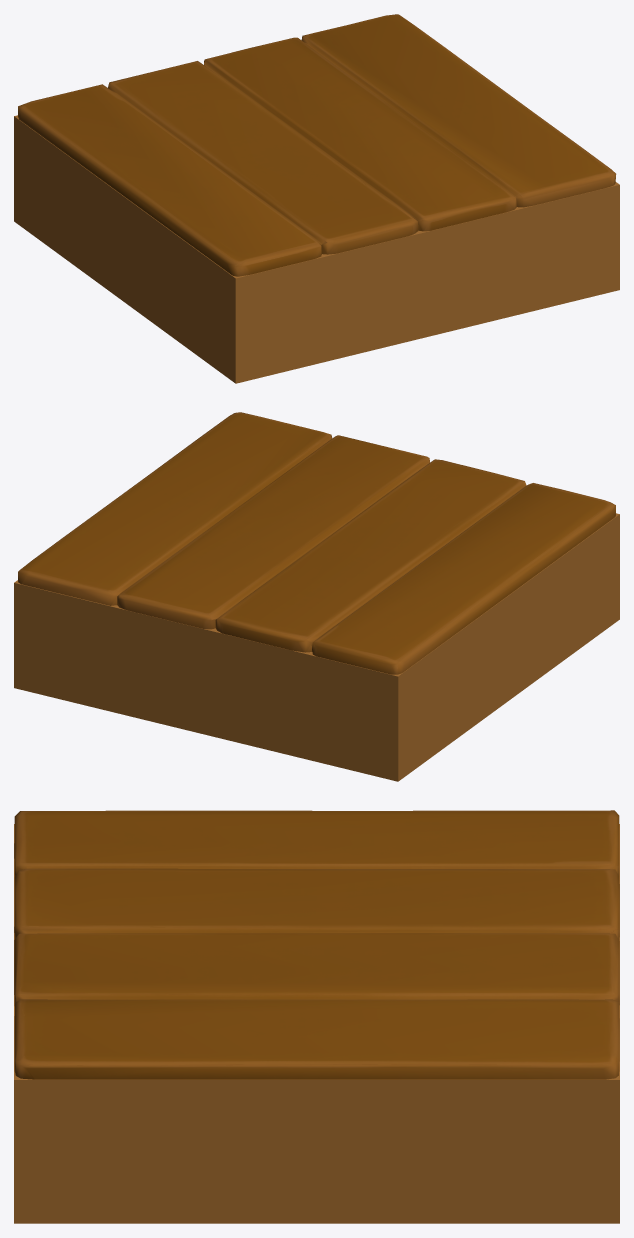
Rendered from tile_wooden_planks.glb.
The picture shows the model from 3 angles, top to bottom: view 1: azimuth 30°, elevation 25°; view 2: azimuth 150°, elevation 25°; view 3: azimuth 270°, elevation 25°; orthographic projection. The views are drawn at different scales.
Parts seen in each view (by area): view 1: planks_cap, planks_body; view 2: planks_cap, planks_body; view 3: planks_cap, planks_body.
Boxes of the visible parts, x1,y1,x2,y2 form: planks_cap: (18,14,616,276); planks_body: (14,115,619,383); planks_cap: (18,412,615,674); planks_body: (14,513,619,781); planks_cap: (14,810,619,1079); planks_body: (14,824,619,1223).
Size of the model in its own units: 1.7 by 0.5 by 1.7.
2 materials, 1 textured.
